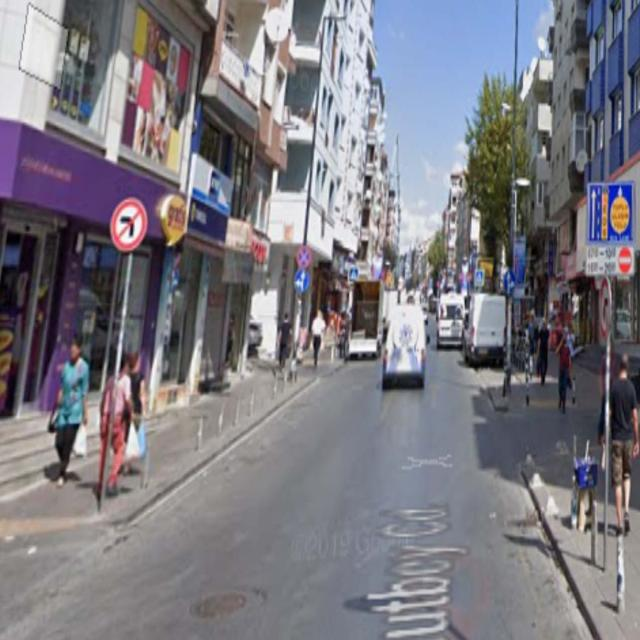girisyok: (618, 246, 630, 276)
ilerisag: (502, 266, 514, 296)
ilerisol: (295, 268, 308, 292)
soladonulmez: (110, 198, 147, 252)
